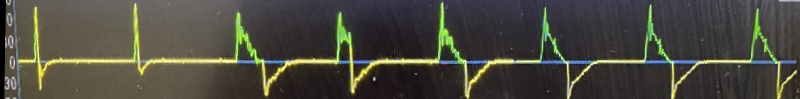hydrop_flow: (0, 1, 800, 99)
